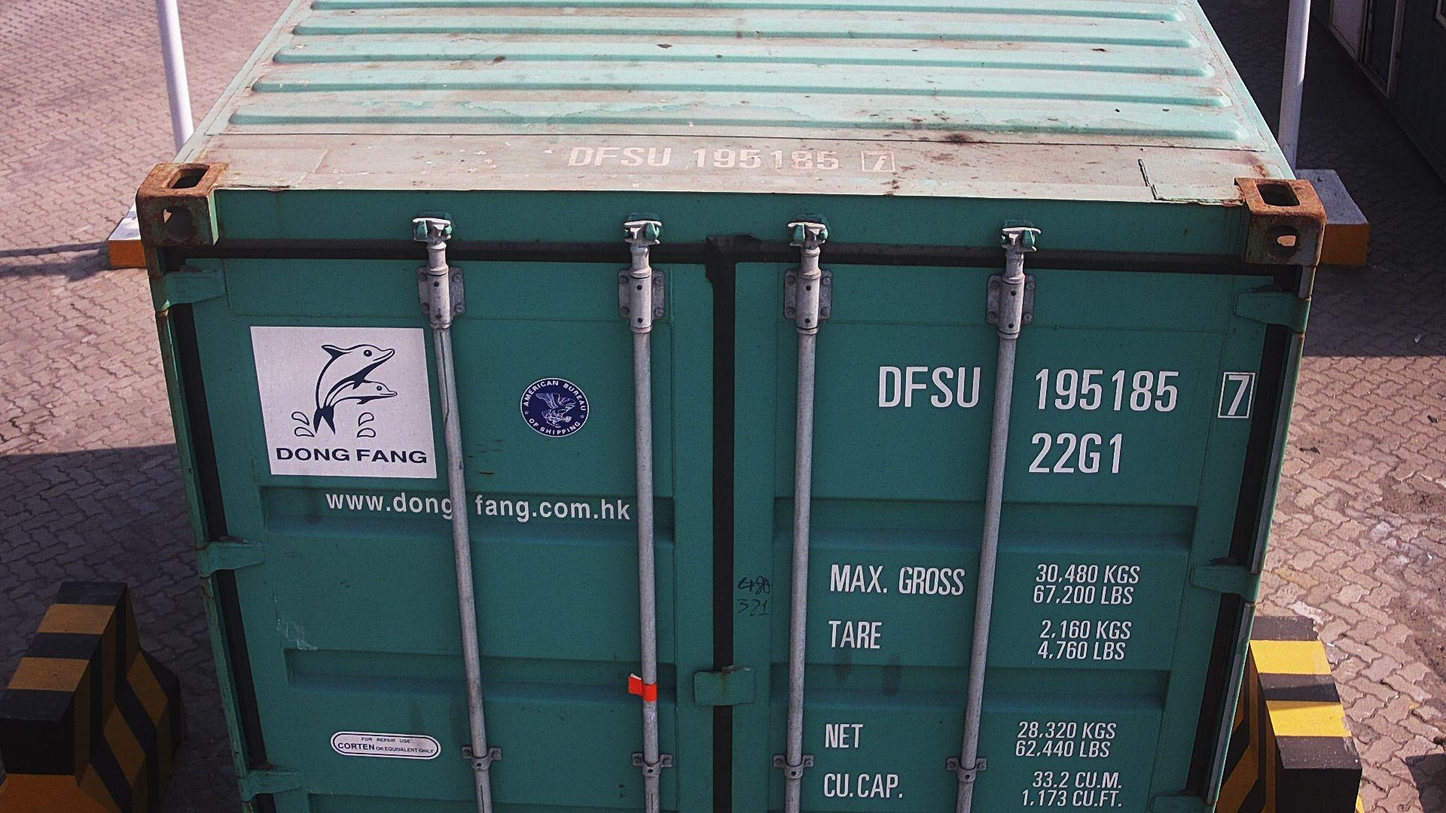container-numbers: (871, 361, 1261, 420), (551, 141, 907, 176), (1024, 428, 1130, 478)
